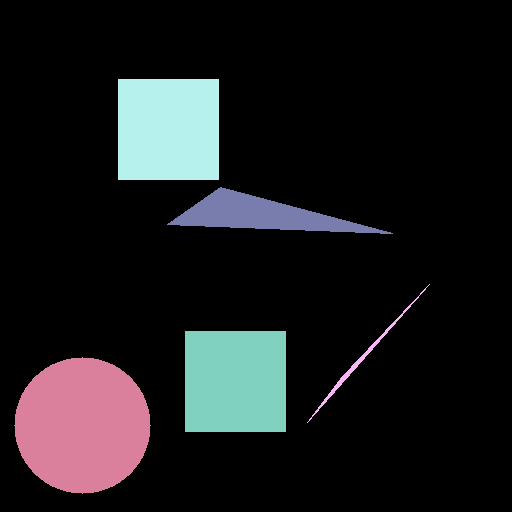circle: (14, 357, 150, 493)
square: (185, 331, 285, 431), (118, 79, 218, 179)
triangle: (167, 187, 392, 233)
